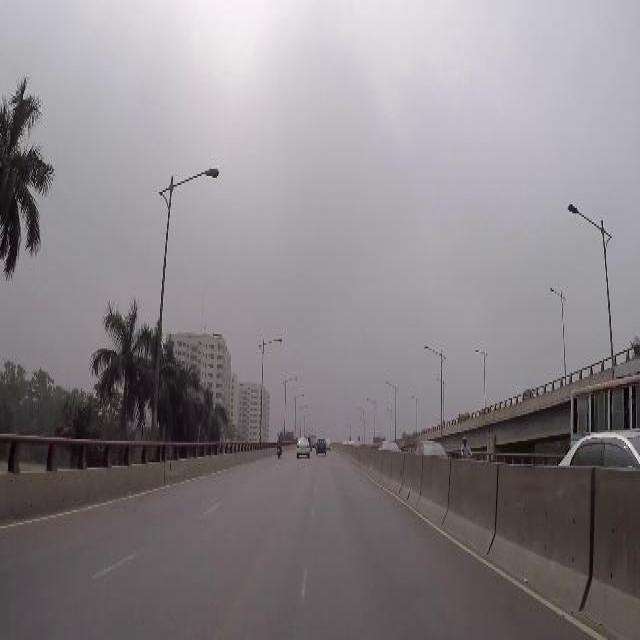10: (275, 433, 281, 456), (459, 449, 473, 458)
5: (558, 428, 638, 476), (413, 439, 447, 457), (378, 441, 402, 451), (296, 436, 308, 456), (522, 388, 536, 398), (315, 439, 325, 453), (324, 436, 330, 449)
Truck: (570, 363, 638, 441)
